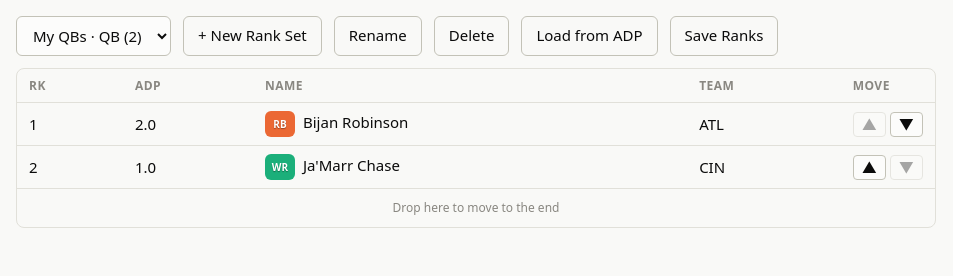
Test case: RankingsPage › Load from ADP on a positional set only requests that position
Expected: the text "Bijan Robinson" is shown, left=303, top=112, right=408, bottom=132
Click the button "Load from ADP". click: (590, 36)
box: left=521, top=16, right=658, bottom=56
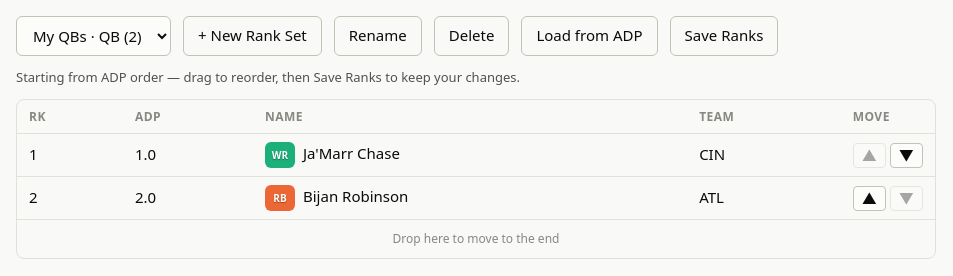
Expected: the text "Starting from ADP order" is shown, left=16, top=68, right=520, bottom=86
